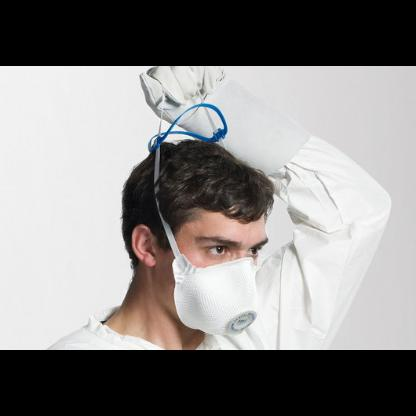FFP Mask: (116, 180, 276, 336)
